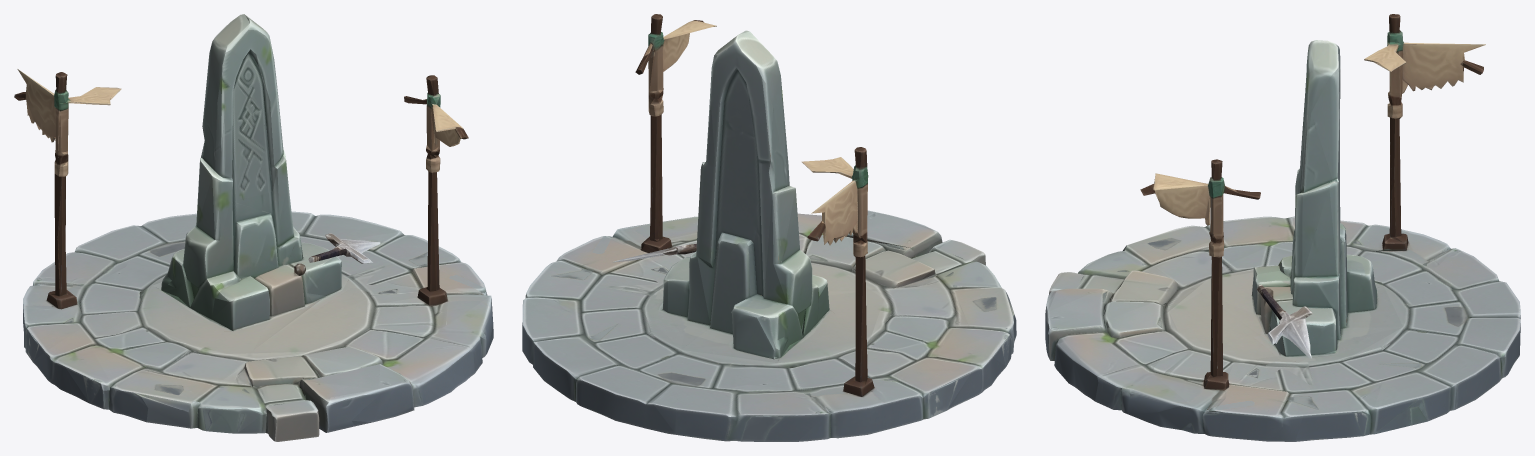
File: oath_stone.glb
3 renders of one model, left to right at view 1: azimuth 30°, elevation 25°; view 2: azimuth 150°, elevation 25°; view 3: azimuth 270°, elevation 25°, orthographic. The views are drawn at different scales.
Parts seen in each view (by area): view 1: oath_stone; view 2: oath_stone; view 3: oath_stone.
Part boxes in pixels (x1,y1,x2,y2): oath_stone: (14,14,493,441); oath_stone: (522,14,1016,441); oath_stone: (1045,14,1520,441).
Size of the model in its own units: 7.03 by 5 by 7.02.
1 material, 1 textured.
